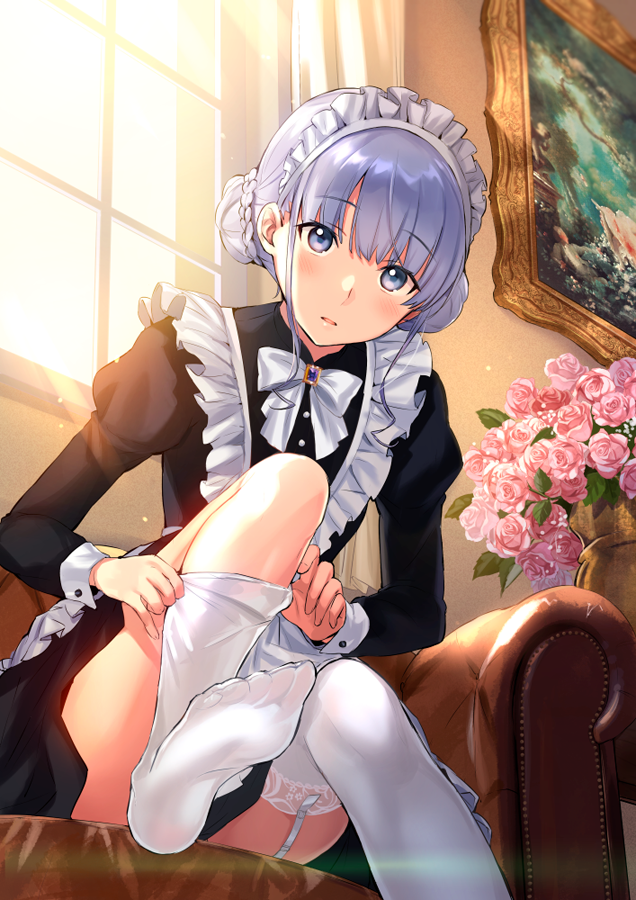纸片人正脸: (237, 77, 492, 353)
